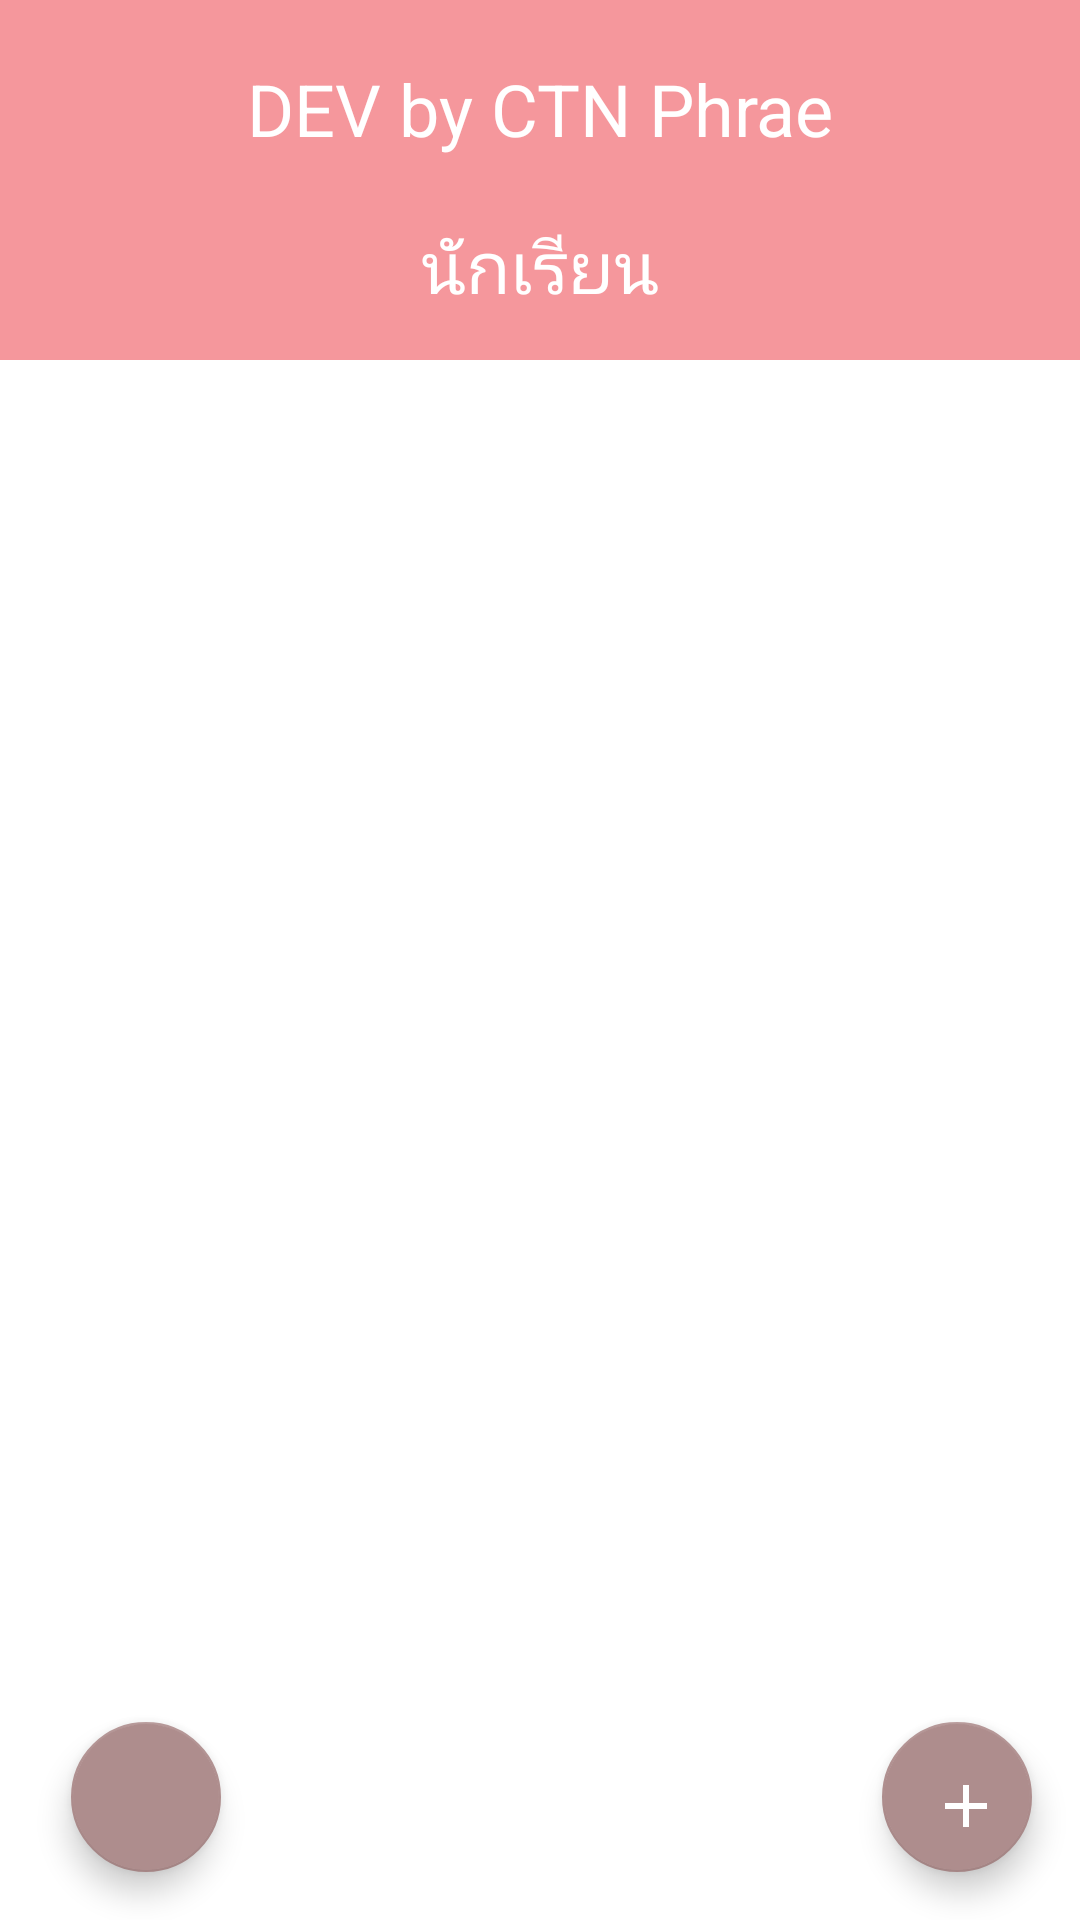

Icon bounding boxes for this 1080x1920 phone screenshot, format rect(x1, y1, x2, y2):
add: rect(882, 1722, 1032, 1872)
